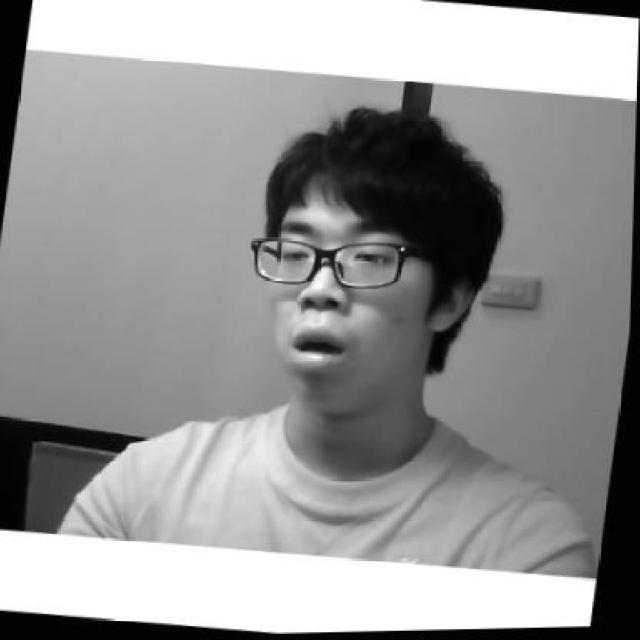inattentif: (227, 93, 501, 430)
